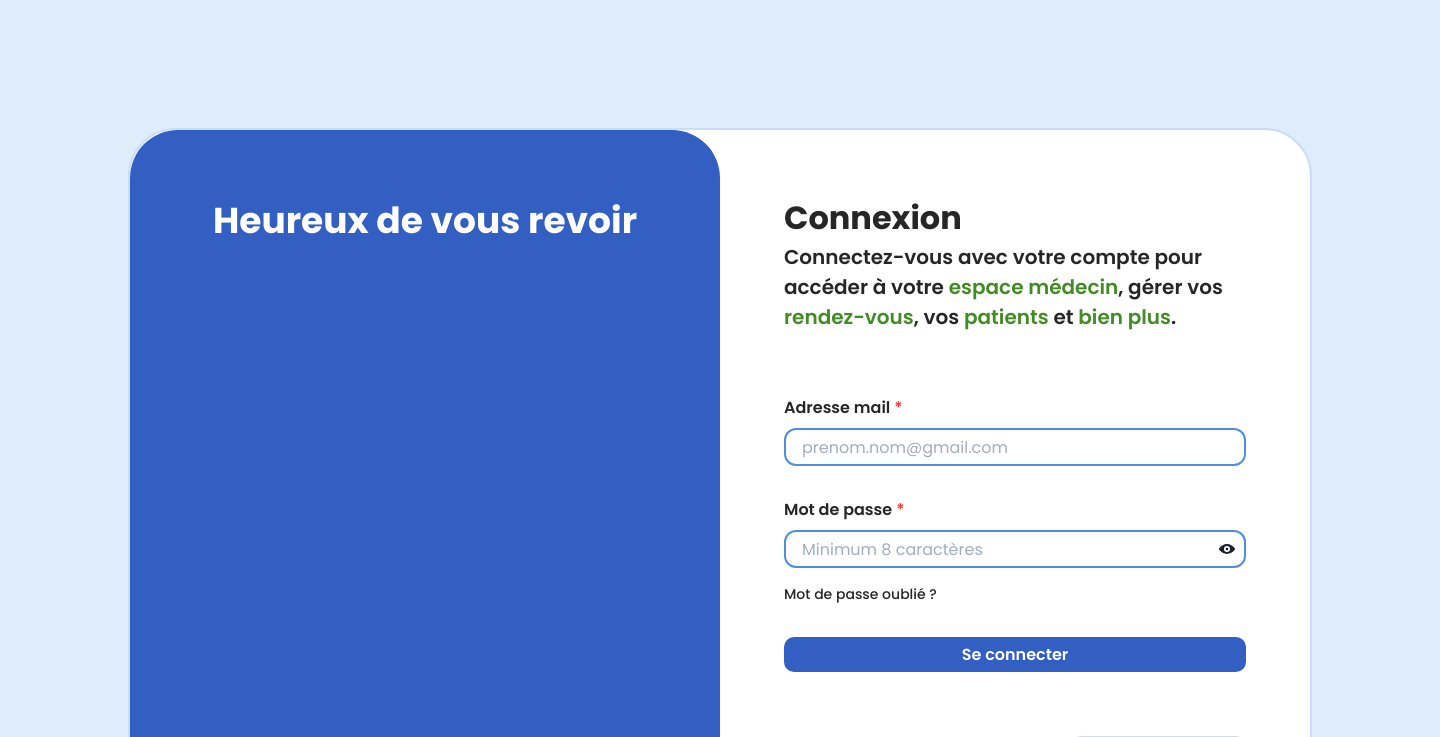
Test: Login Page tests - Desktop › Working page › No email address
This screenshot has width=1440, height=737.
Click the button with id "edgar-loginPage-form-button": (1015, 655) x1=784 y1=637 x2=1246 y2=672
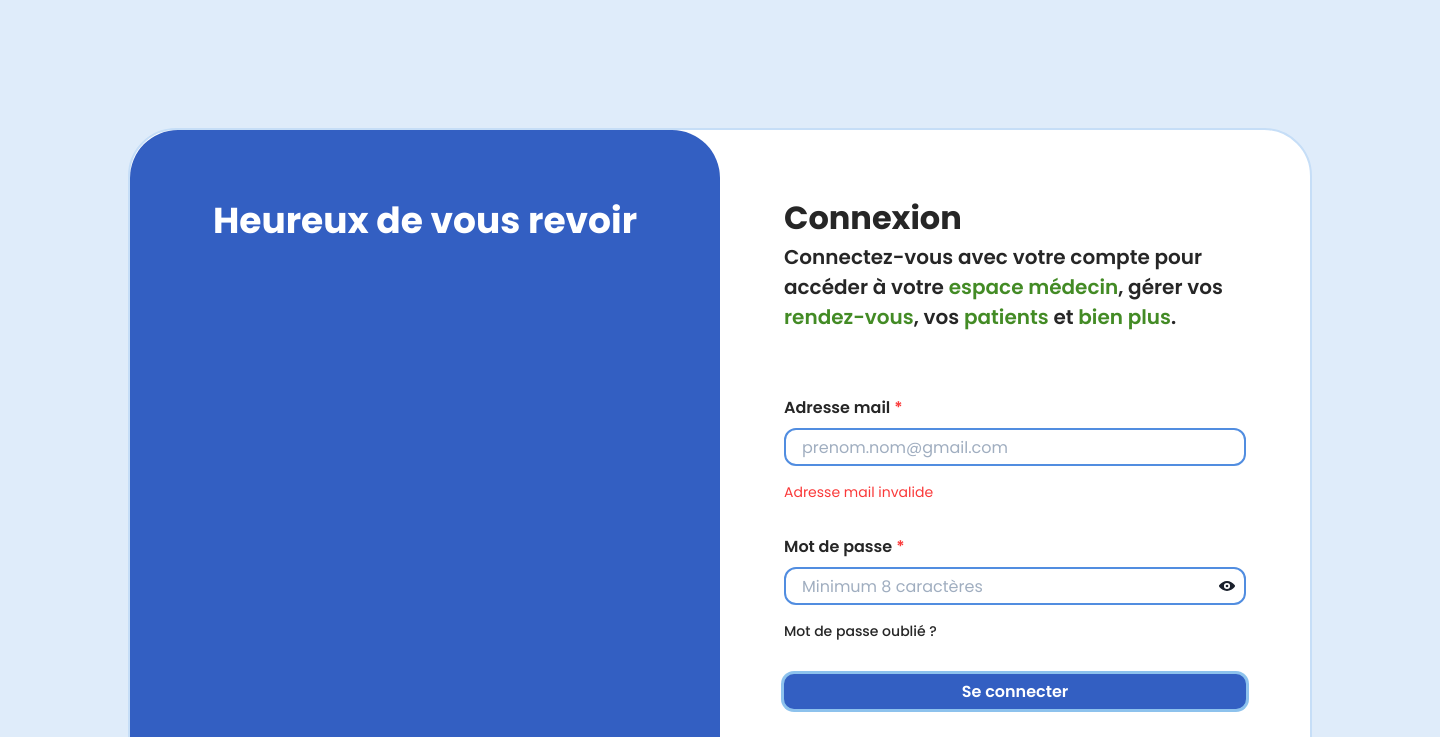
Expected: the text with id "edgar-loginPage-formEmailError-text" reads "Adresse mail invalide", x1=784 y1=482 x2=933 y2=503
